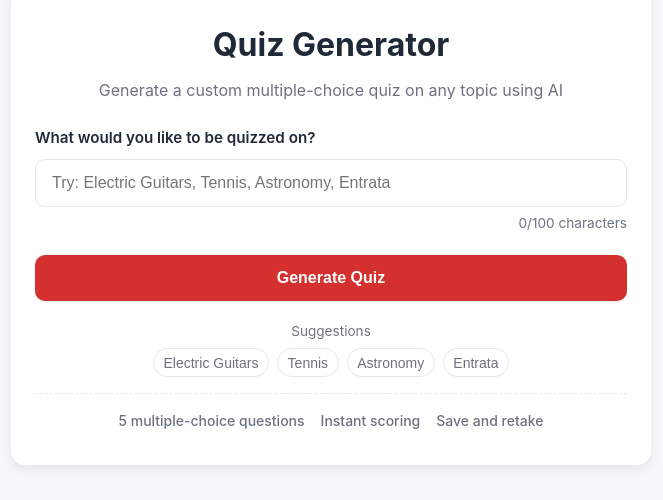
QuizGenerator › shows error for empty topic submission
The image size is (663, 500).
// Try to submit without entering topic
Click the button "Generate Quiz". click: x=331, y=278
box: [35, 255, 627, 301]
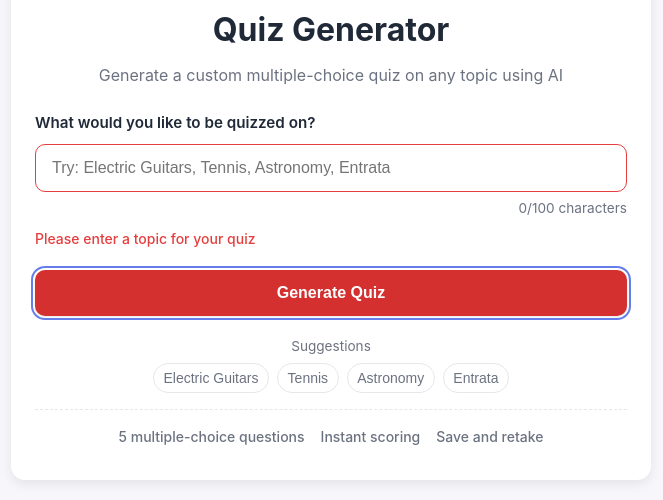
Expected: the text "Please enter a topic for your quiz" is shown, [35, 230, 256, 247]
